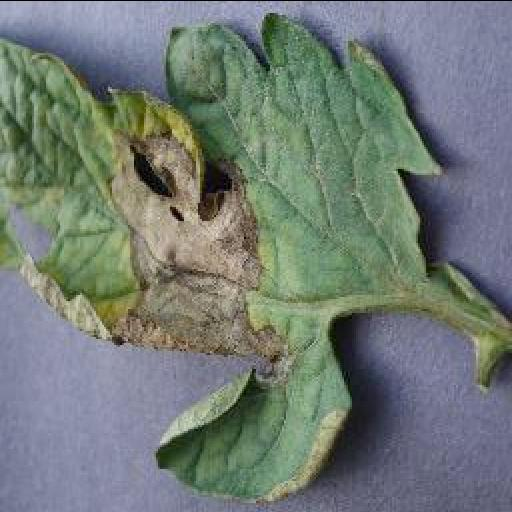disease_tomato: (0, 14, 444, 504)
